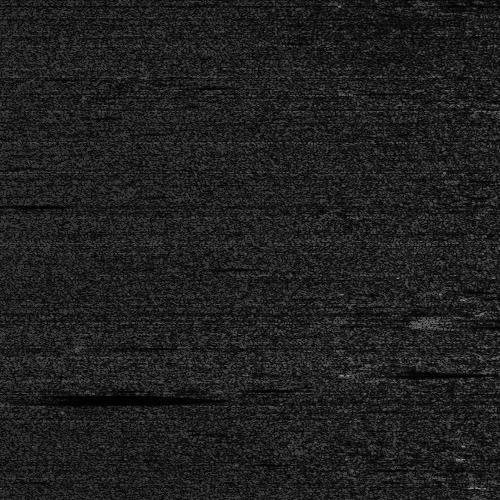object: (404, 311, 477, 326), (327, 369, 380, 376), (441, 454, 494, 459), (479, 483, 500, 486), (0, 201, 11, 206)
shadow: (440, 311, 500, 326), (354, 369, 453, 376), (0, 201, 63, 206), (468, 454, 500, 459), (0, 394, 4, 399)
